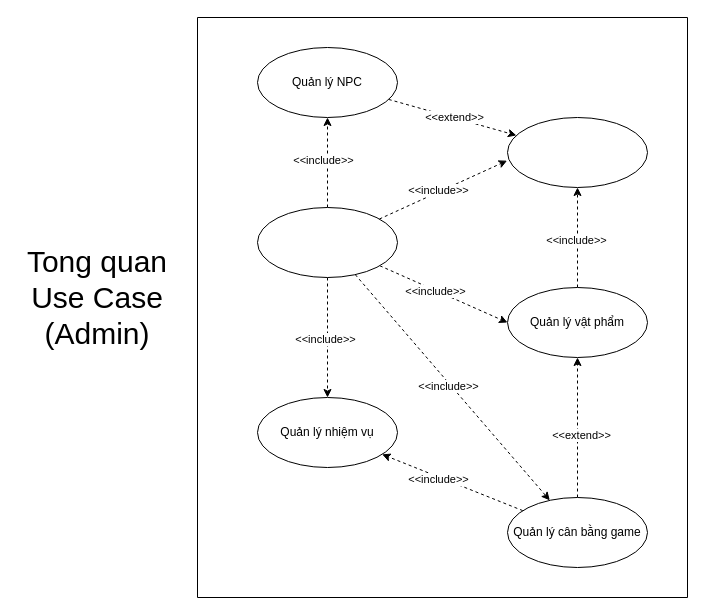
The diagram is 705 pixels wide and 615 high, and some of its shapes have lost their labels. The shapes that lost their labels are listed below. From the top down, each one's box as (x1, y1, x2, y2) in pixels, then its label:
(506, 116, 648, 188): Quản lý nghề
(256, 206, 398, 278): Quản lý dữ liệu
